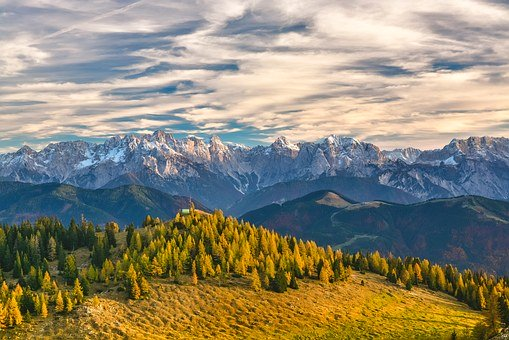field: (13, 224, 498, 338)
mountain: (7, 135, 499, 263)
sky: (4, 5, 509, 134)
